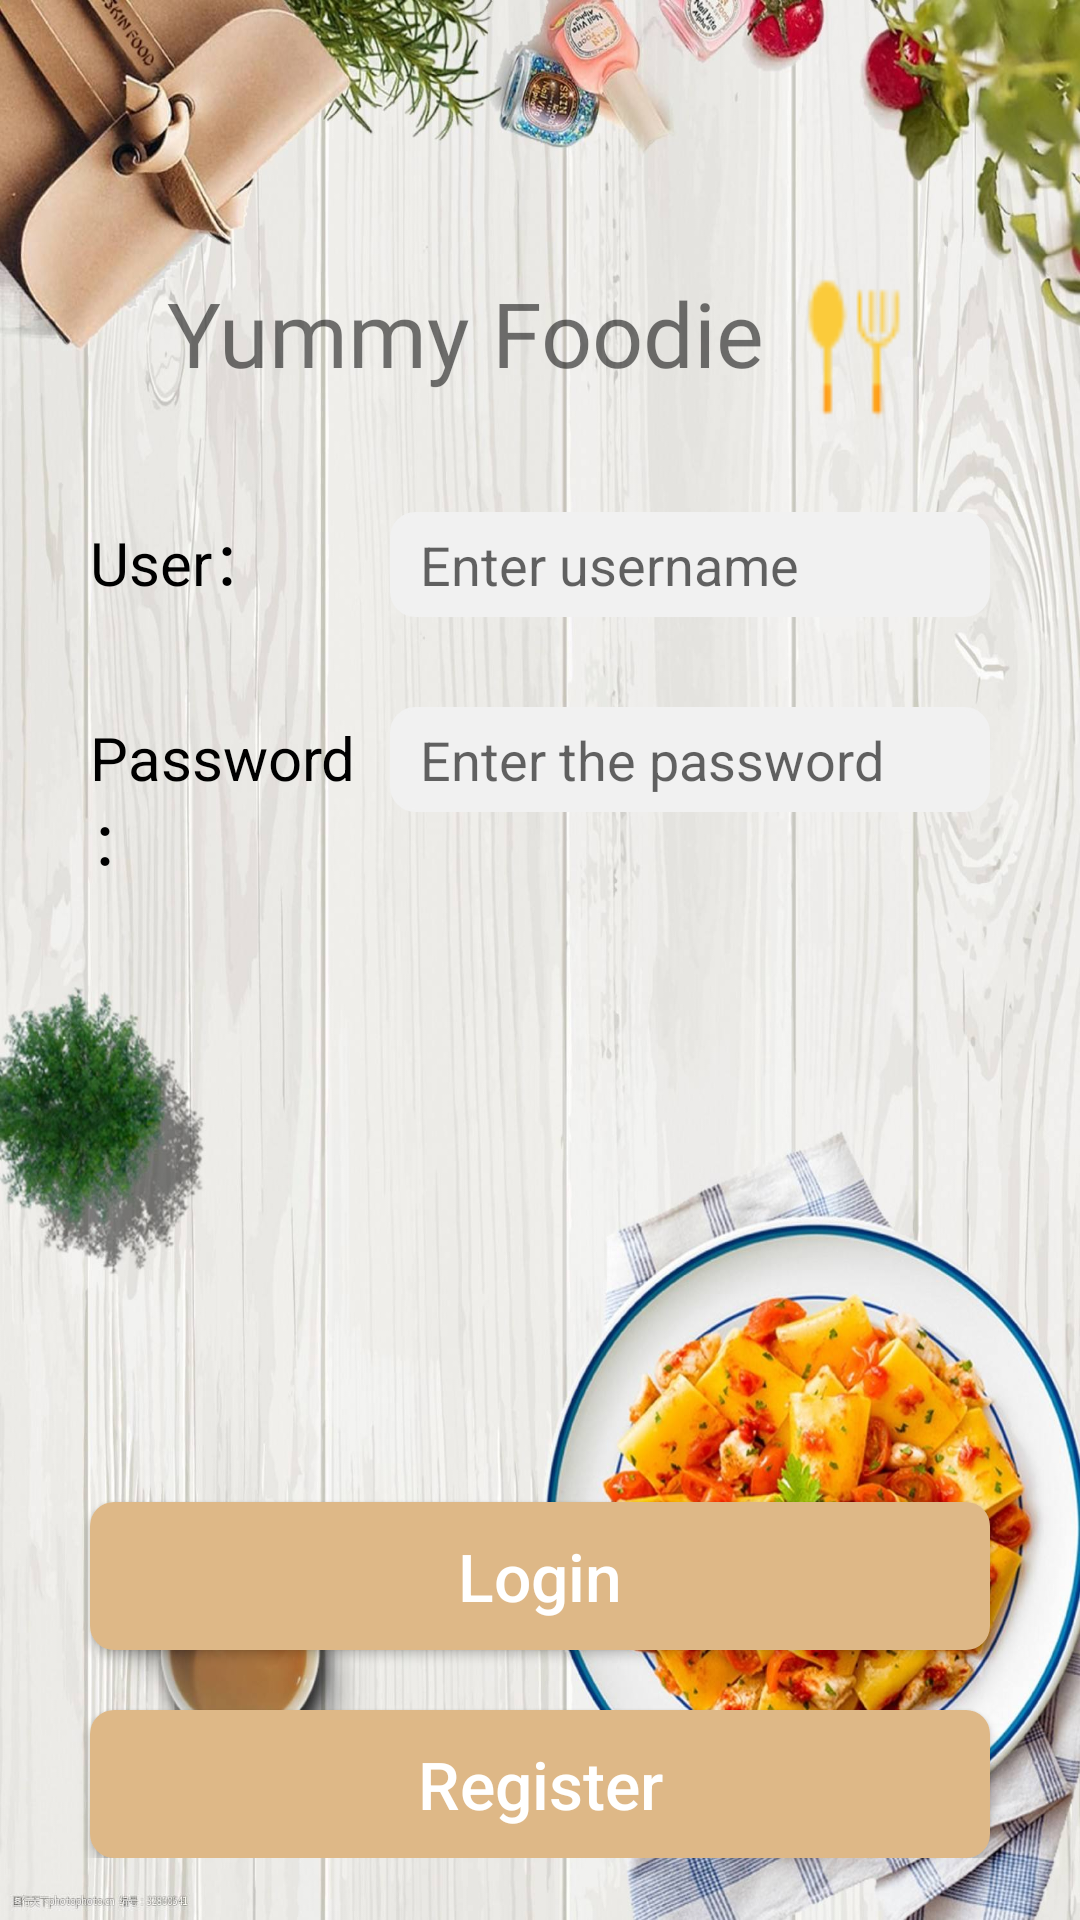

Where to tap for icons on this 1080px×1920px app screen, as (x,y):
yinshi: (854,348)
